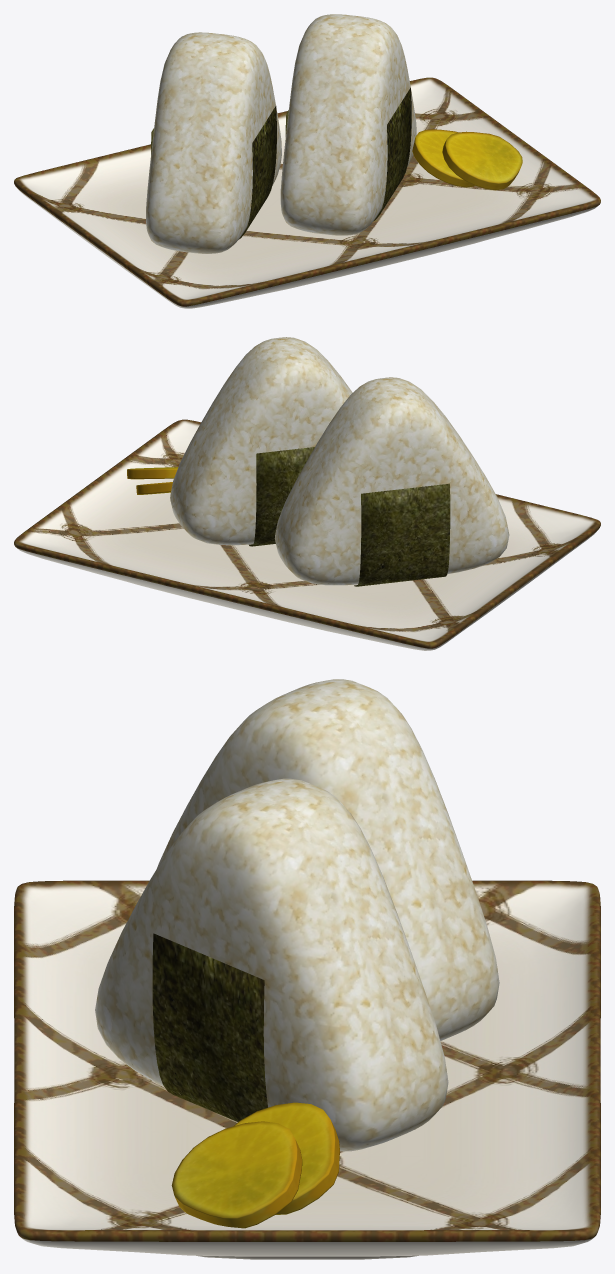
File: riceball.glb
3 renders of one model, top to bottom at view 1: azimuth 30°, elevation 25°; view 2: azimuth 150°, elevation 25°; view 3: azimuth 270°, elevation 25°, orthographic. The views are drawn at different scales.
Parts seen in each view (by area): view 1: RiceBall; view 2: RiceBall; view 3: RiceBall.
Part boxes in pixels (x1=…): RiceBall: x1=14, y1=14, x2=600, y2=308; RiceBall: x1=14, y1=337, x2=600, y2=650; RiceBall: x1=14, y1=679, x2=600, y2=1259.
Size of the model in its own units: 0.1602 by 0.0738 by 0.1123.
Materials: 2 (2 with a texture image).
